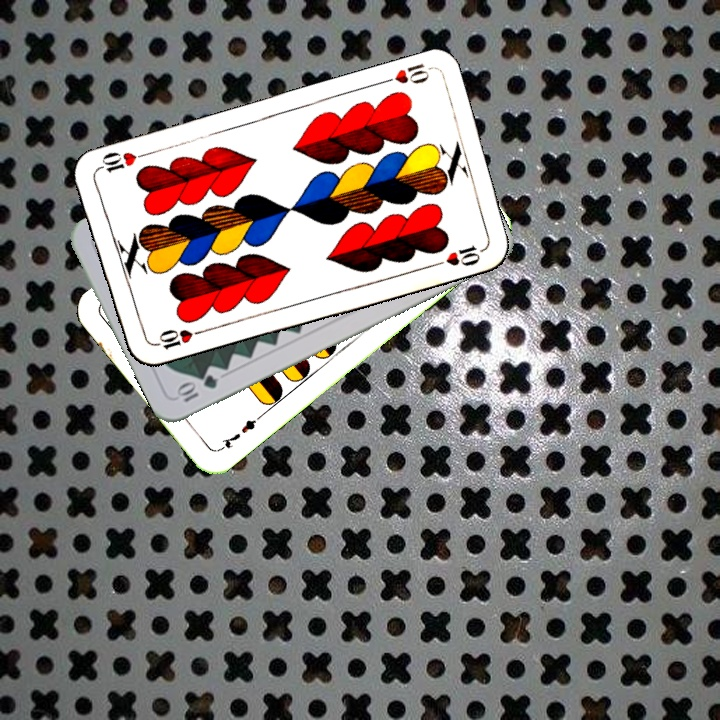E7: (214, 411, 264, 454)
G10: (173, 370, 221, 405)
H10: (374, 59, 432, 88), (148, 325, 207, 352)
